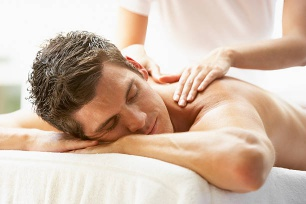male: (55, 50, 167, 143)
